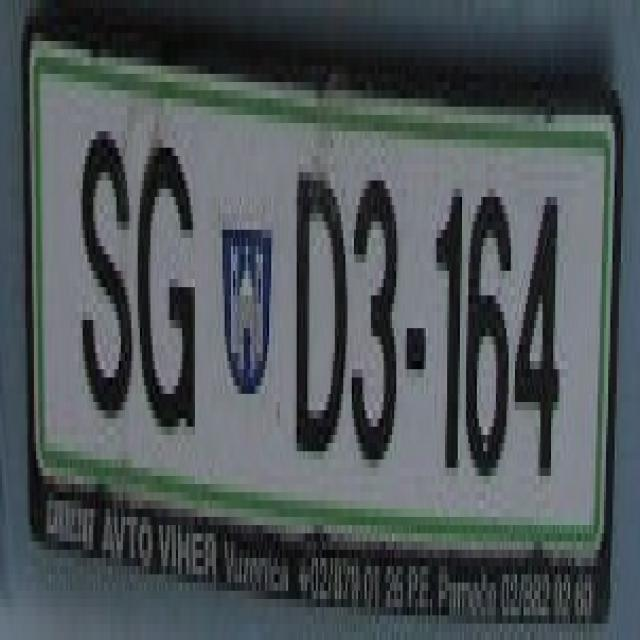1: (434, 189, 462, 476)
3: (352, 172, 390, 484)
4: (512, 189, 562, 476)
6: (466, 180, 513, 484)
D: (292, 172, 344, 460)
G: (140, 140, 200, 426)
S: (80, 99, 130, 402)
